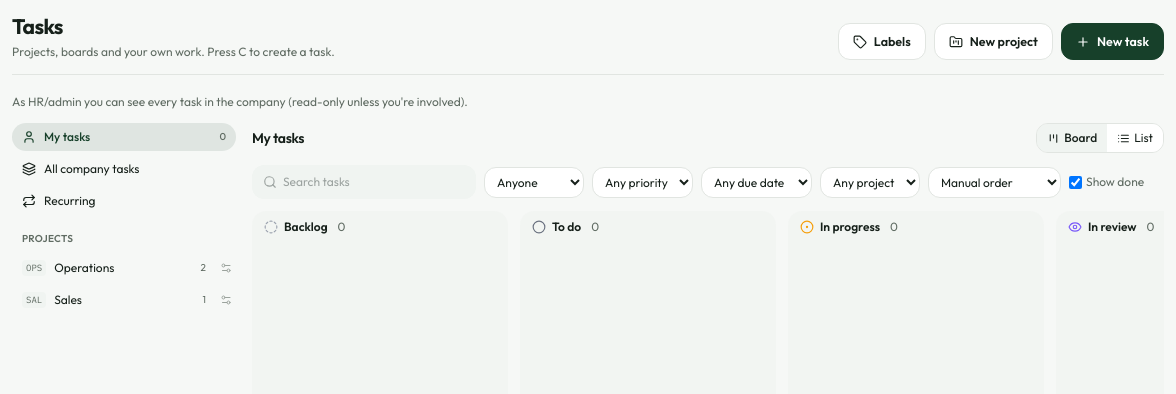
Test: TaskWorkspace (HR and admins oversee) › says they see every task, read-only unless involved, and offers All company tasks
This screenshot has width=1176, height=394.
Expected: the text "As HR/admin you can see every task in the company (read-only unless you're involved)" is shown, [12, 94, 468, 109]
Click the button "All company tasks" at x=124, y=169, box [12, 155, 236, 183]
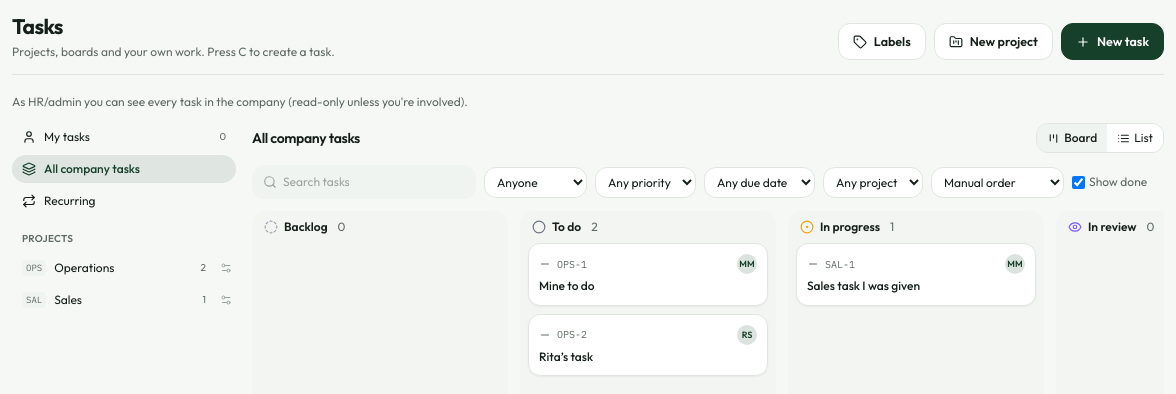
Expected: the heading "All company tasks" is shown, [252, 128, 360, 148]
Expected: the text "Mine to do" is shown, [539, 278, 595, 293]
Expected: the text "Rita’s task" is shown, [539, 348, 593, 364]
// no "you are not in this project" note: they see all of it
Click the button "OPS Operations 2" at x=114, y=268, box [12, 254, 216, 282]
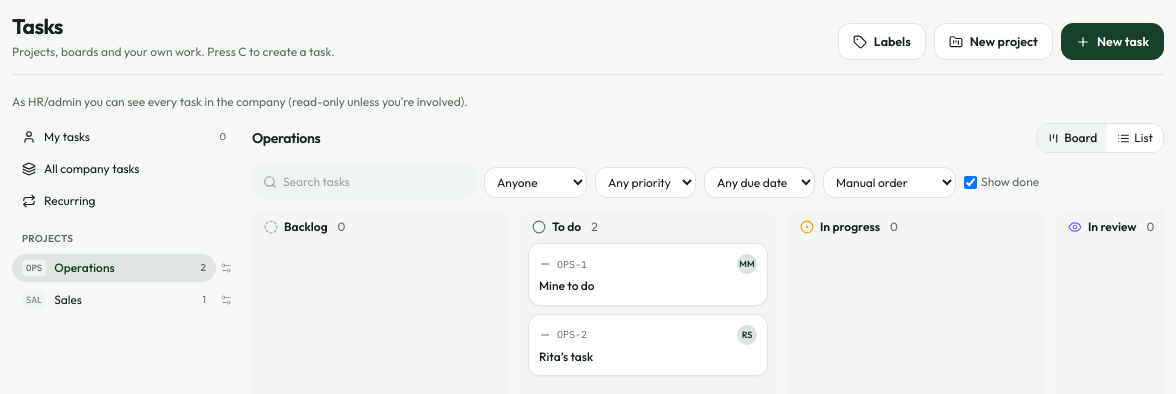
Expected: the dropdown "You are not in this project" is gone
